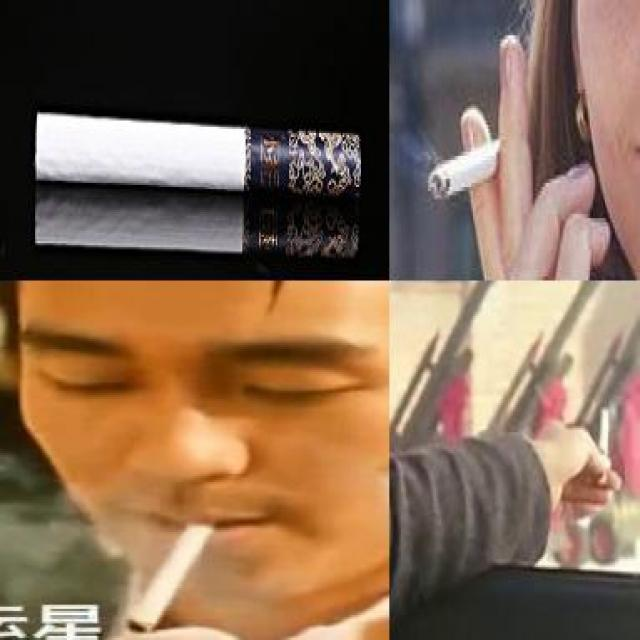smoke: (35, 111, 363, 194), (34, 186, 360, 261), (124, 519, 213, 634), (422, 132, 499, 203), (596, 402, 612, 456)
